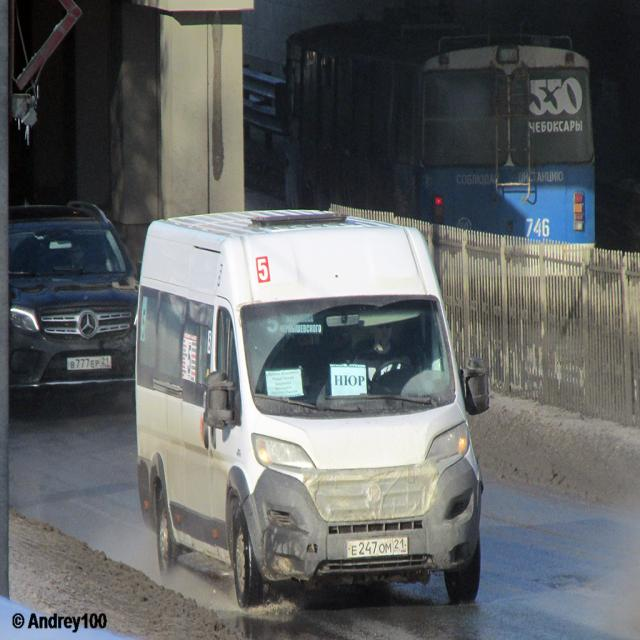number-of-bus: (257, 256, 274, 286)
